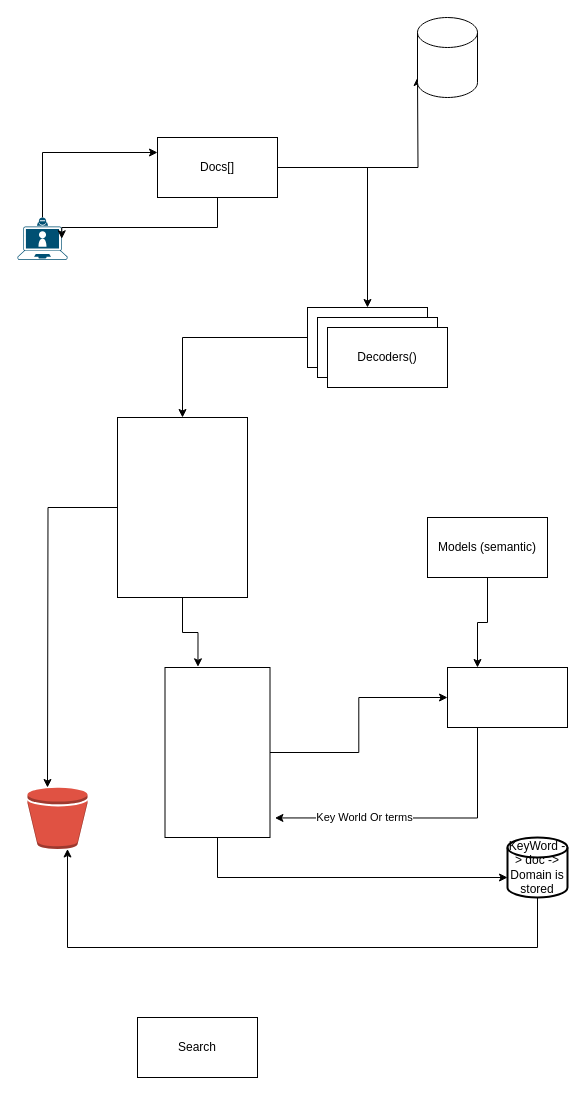
Image size: 585x1095. Some labels were removed from this diagram. Each missing label, with the box of its shape:
DB: (416, 16, 478, 98)
Key word generator: (446, 666, 568, 728)
Metadata sidecare + Doc(santized format): (116, 416, 248, 598)
Processing pipeline: (164, 666, 270, 838)
